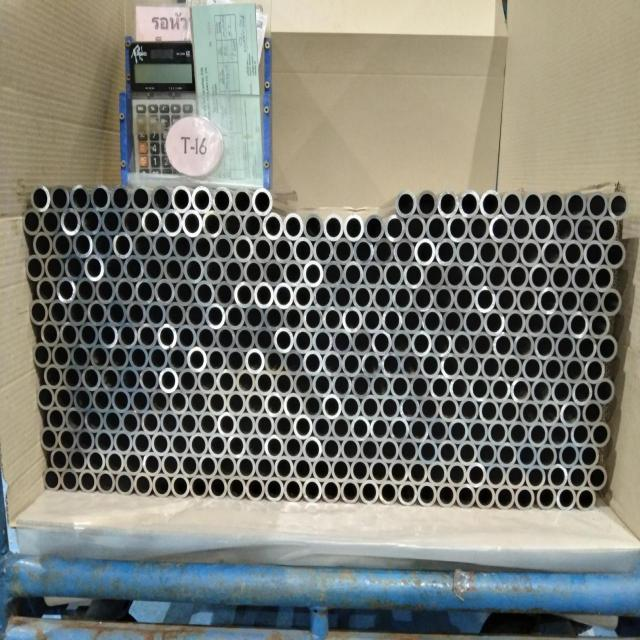pipe: (519, 238, 542, 268), (426, 212, 448, 243), (511, 213, 533, 244), (532, 213, 554, 244), (553, 214, 575, 245), (455, 238, 478, 267), (495, 286, 518, 315), (363, 213, 385, 243), (405, 213, 427, 243), (447, 213, 469, 243), (468, 214, 490, 244), (489, 214, 511, 244), (574, 215, 596, 245), (477, 238, 499, 268), (498, 238, 520, 268), (541, 239, 563, 269), (562, 239, 584, 269), (583, 239, 605, 269), (486, 261, 508, 291), (508, 262, 530, 292), (529, 262, 551, 292), (550, 262, 572, 292), (571, 263, 593, 293), (558, 286, 580, 316), (416, 189, 438, 219), (459, 189, 481, 219), (395, 189, 417, 219), (501, 189, 523, 219), (543, 190, 565, 220), (565, 191, 587, 220), (586, 191, 608, 220), (608, 192, 630, 221), (384, 214, 406, 243), (595, 216, 617, 245), (273, 236, 295, 265), (373, 237, 395, 266), (393, 238, 415, 267), (414, 238, 436, 267), (435, 238, 457, 267), (604, 240, 626, 269), (423, 261, 445, 290), (444, 261, 466, 290), (465, 262, 487, 291), (593, 264, 615, 293), (412, 284, 434, 313), (453, 285, 475, 314), (474, 285, 496, 314), (516, 286, 538, 315), (538, 286, 560, 315), (483, 308, 505, 337), (504, 309, 526, 338), (525, 309, 547, 338), (546, 310, 568, 339), (568, 310, 590, 339), (575, 333, 597, 362), (437, 190, 459, 219), (479, 190, 501, 219), (522, 190, 544, 219), (202, 209, 223, 239), (222, 210, 243, 240), (343, 213, 364, 243), (589, 310, 610, 340), (192, 185, 213, 215), (212, 185, 233, 215), (252, 187, 273, 217), (162, 207, 182, 238), (100, 208, 122, 236), (433, 285, 455, 313), (422, 308, 444, 336), (442, 308, 464, 336), (472, 331, 494, 359), (554, 333, 576, 361), (596, 334, 618, 362), (501, 354, 523, 382), (521, 355, 543, 383), (584, 357, 606, 385), (81, 207, 102, 236), (41, 208, 62, 237), (243, 211, 264, 240), (263, 212, 284, 241), (283, 212, 304, 241), (303, 213, 324, 242), (324, 213, 345, 242), (72, 230, 93, 259), (52, 230, 73, 259), (92, 231, 113, 260), (132, 231, 153, 260), (193, 233, 214, 262), (213, 234, 234, 263), (293, 236, 314, 265), (313, 236, 334, 265), (333, 237, 354, 266), (353, 237, 374, 266), (104, 254, 125, 283), (143, 255, 164, 284), (263, 259, 284, 288), (283, 259, 304, 288), (303, 259, 324, 288), (383, 261, 404, 290), (403, 261, 424, 290), (75, 276, 96, 305), (115, 277, 136, 306), (392, 284, 413, 313), (601, 287, 622, 316), (493, 331, 514, 360), (564, 356, 585, 385), (151, 185, 172, 214), (122, 207, 142, 237), (182, 208, 202, 238), (232, 186, 252, 216), (152, 233, 174, 260), (371, 330, 393, 357), (420, 352, 442, 379), (480, 354, 502, 381), (543, 357, 565, 384), (32, 231, 53, 259), (113, 231, 134, 259), (44, 254, 65, 282), (64, 254, 85, 282), (123, 255, 144, 283), (244, 258, 265, 286), (323, 260, 344, 288), (363, 261, 384, 289), (56, 276, 77, 304), (135, 278, 156, 306), (293, 282, 314, 310), (332, 283, 353, 311), (352, 284, 373, 312), (372, 284, 393, 312), (580, 288, 601, 316), (87, 299, 108, 327), (165, 301, 186, 329), (185, 302, 206, 330), (264, 304, 285, 332), (303, 305, 324, 333), (463, 308, 484, 336), (117, 322, 138, 350), (514, 332, 535, 360), (534, 332, 555, 360), (461, 353, 482, 381), (70, 185, 91, 213), (50, 185, 71, 213), (131, 185, 152, 213), (142, 208, 162, 237), (173, 232, 193, 261), (233, 234, 253, 263), (253, 235, 273, 264), (164, 255, 184, 284), (184, 256, 204, 285), (204, 257, 224, 286), (224, 257, 244, 286), (343, 260, 363, 289), (382, 306, 402, 335), (109, 343, 129, 372), (172, 185, 192, 214), (61, 208, 82, 235), (36, 277, 57, 304), (273, 283, 294, 310), (126, 301, 147, 328), (283, 305, 304, 332), (322, 306, 343, 333), (40, 320, 61, 347), (235, 326, 256, 353), (391, 330, 412, 357), (411, 330, 432, 357), (431, 330, 452, 357), (452, 331, 473, 358), (264, 349, 285, 376), (283, 349, 304, 376), (322, 350, 343, 377), (361, 351, 382, 378), (331, 372, 352, 399), (351, 373, 372, 400), (410, 374, 431, 401), (430, 374, 451, 401), (450, 375, 471, 402), (470, 375, 491, 402), (490, 376, 511, 403), (510, 377, 531, 404), (594, 378, 615, 405), (531, 378, 552, 405), (551, 379, 572, 406), (572, 379, 593, 406), (399, 395, 420, 422), (419, 396, 440, 423), (439, 396, 460, 423), (459, 397, 480, 424), (479, 397, 500, 424), (498, 398, 519, 425), (582, 399, 603, 426), (520, 400, 541, 427), (539, 400, 560, 427), (560, 401, 581, 428), (351, 415, 372, 442), (370, 416, 391, 443), (389, 416, 410, 443), (409, 417, 430, 444), (428, 418, 449, 445), (448, 418, 469, 445), (468, 419, 489, 446), (488, 420, 509, 447), (590, 421, 611, 448), (571, 421, 592, 448), (508, 421, 529, 448), (528, 421, 549, 448), (549, 423, 570, 450), (321, 435, 342, 462), (341, 436, 362, 463), (359, 437, 380, 464), (379, 438, 400, 465), (399, 438, 420, 465), (418, 439, 439, 466), (437, 440, 458, 467), (457, 440, 478, 467), (476, 442, 497, 469), (497, 442, 518, 469), (559, 442, 580, 469), (579, 442, 600, 469), (517, 443, 538, 470), (537, 444, 558, 471), (274, 454, 295, 481), (255, 455, 276, 482), (60, 467, 81, 494), (115, 471, 136, 498), (133, 471, 154, 498), (207, 474, 228, 501), (264, 476, 285, 503), (283, 477, 304, 504), (302, 477, 323, 504), (321, 478, 342, 505), (341, 478, 362, 505), (397, 480, 418, 507), (416, 481, 437, 508), (456, 482, 477, 509), (90, 185, 111, 212), (84, 254, 104, 282), (25, 254, 45, 282), (96, 277, 116, 305), (155, 278, 175, 306), (195, 280, 215, 308), (214, 280, 234, 308), (313, 283, 333, 311), (402, 307, 422, 335), (79, 321, 99, 349), (98, 322, 118, 350), (137, 323, 157, 351), (352, 328, 372, 356), (129, 344, 149, 372), (148, 344, 168, 372), (401, 351, 421, 379), (441, 352, 461, 380), (236, 369, 256, 397), (30, 185, 50, 213), (362, 308, 383, 334), (65, 407, 86, 433), (22, 208, 42, 235), (175, 280, 195, 307), (234, 282, 254, 309), (253, 282, 273, 309), (48, 299, 68, 326), (67, 299, 87, 326), (107, 300, 127, 327), (146, 301, 166, 328), (205, 303, 225, 330), (225, 303, 245, 330), (245, 304, 265, 331), (342, 306, 362, 333), (157, 323, 177, 350), (177, 324, 197, 351), (196, 325, 216, 352), (216, 325, 236, 352), (254, 326, 274, 353), (274, 327, 294, 354), (293, 327, 313, 354), (313, 328, 333, 355), (332, 328, 352, 355), (51, 343, 71, 370), (70, 343, 90, 370), (90, 344, 110, 371), (187, 345, 207, 372), (168, 346, 188, 373), (207, 347, 227, 374), (226, 347, 246, 374), (245, 348, 265, 375), (303, 350, 323, 377), (342, 351, 362, 378), (381, 352, 401, 379), (139, 366, 159, 393), (159, 367, 179, 394), (178, 367, 198, 394), (255, 370, 275, 397), (274, 370, 294, 397), (293, 371, 313, 398), (312, 371, 332, 398), (371, 373, 391, 400), (390, 373, 410, 400), (73, 386, 93, 413), (92, 386, 112, 413), (111, 387, 131, 414), (130, 388, 150, 415), (150, 388, 170, 415), (188, 389, 208, 416), (226, 390, 246, 417), (264, 391, 284, 418), (284, 392, 304, 419), (303, 393, 323, 420), (321, 393, 341, 420), (341, 394, 361, 421), (380, 395, 400, 422), (46, 406, 66, 433), (84, 407, 104, 434), (121, 409, 141, 436), (160, 410, 180, 437), (179, 410, 199, 437), (198, 411, 218, 438), (236, 412, 256, 439), (274, 413, 294, 440), (312, 414, 332, 441), (39, 426, 59, 453), (189, 432, 209, 459), (226, 433, 246, 460), (245, 433, 265, 460), (284, 434, 304, 461), (179, 452, 199, 479), (236, 454, 256, 481), (293, 456, 313, 483), (369, 458, 389, 485), (389, 459, 409, 486), (408, 460, 428, 487), (428, 460, 448, 487), (447, 461, 467, 488), (466, 462, 486, 489), (486, 462, 506, 489), (506, 463, 526, 490), (42, 466, 62, 493), (79, 468, 99, 495), (96, 469, 116, 496), (152, 473, 172, 500), (171, 473, 191, 500), (189, 474, 209, 501), (246, 475, 266, 502), (227, 475, 247, 502), (360, 479, 380, 506), (378, 479, 398, 506), (437, 482, 457, 509), (111, 185, 131, 212), (216, 369, 237, 394), (29, 300, 49, 326), (100, 366, 120, 392), (120, 366, 140, 392), (198, 369, 218, 395), (245, 391, 265, 417), (361, 395, 381, 421), (141, 410, 161, 436), (255, 412, 275, 438), (331, 415, 351, 441), (151, 431, 171, 457), (264, 434, 284, 460), (303, 436, 323, 462), (142, 451, 162, 477), (525, 464, 545, 490), (547, 464, 567, 490), (568, 464, 588, 490), (587, 465, 607, 491), (475, 484, 495, 510), (496, 485, 516, 511), (536, 485, 556, 511), (576, 486, 596, 512), (515, 486, 535, 512), (557, 486, 577, 512), (60, 321, 79, 348), (33, 342, 52, 369), (44, 364, 63, 391), (82, 365, 101, 392), (169, 389, 188, 416), (218, 411, 237, 438), (171, 431, 190, 458), (208, 432, 227, 459), (313, 456, 332, 483), (332, 456, 351, 483), (352, 457, 371, 484), (75, 428, 95, 453), (199, 454, 219, 479), (63, 365, 82, 391), (55, 386, 74, 412), (208, 390, 227, 416), (103, 408, 122, 434), (294, 414, 313, 440), (133, 431, 152, 457), (50, 447, 69, 473), (87, 448, 106, 474), (105, 449, 124, 475), (124, 450, 143, 476), (218, 454, 237, 480), (58, 427, 77, 452), (95, 429, 114, 454), (69, 448, 88, 473), (162, 452, 181, 477), (114, 430, 133, 454), (37, 386, 55, 411)
